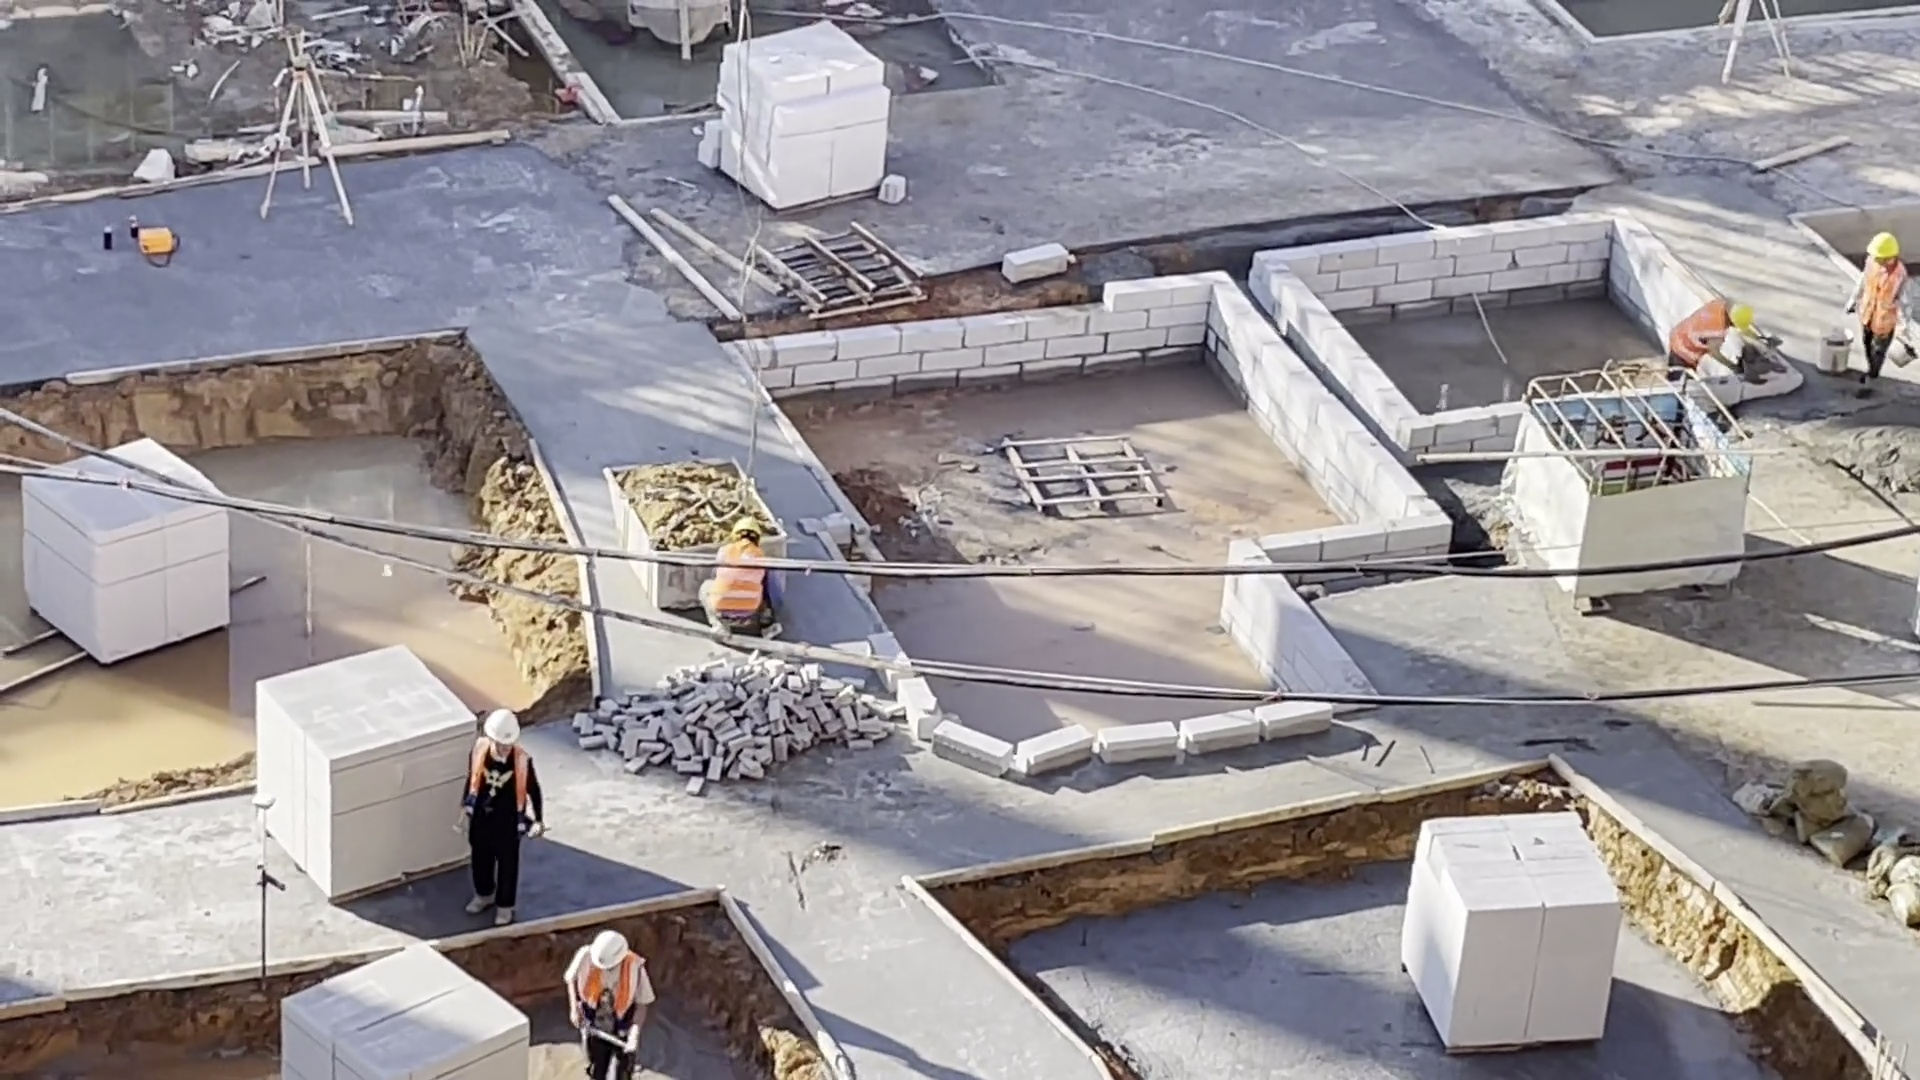helmet: (476, 705, 523, 743), (595, 932, 633, 968), (1862, 231, 1904, 260), (1726, 298, 1754, 333), (730, 516, 763, 535)
person: (450, 706, 548, 927), (561, 927, 653, 1080), (693, 515, 788, 638), (1845, 227, 1912, 399), (1660, 295, 1768, 384)
vest: (464, 739, 531, 827), (1665, 299, 1728, 364), (1858, 261, 1908, 336), (577, 972, 641, 1019), (704, 569, 768, 615)
